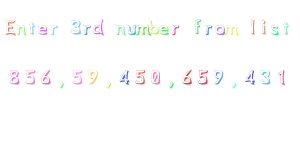,: (165, 77, 179, 93), (228, 79, 242, 93), (102, 80, 117, 92), (55, 79, 68, 92)
0: (149, 65, 164, 88)
1: (275, 67, 290, 87)
3: (67, 15, 81, 39), (259, 67, 271, 90)
4: (242, 69, 259, 89), (118, 67, 132, 89)
5: (195, 66, 211, 90), (70, 65, 85, 89), (24, 68, 39, 88), (133, 67, 148, 87)
6: (178, 66, 196, 87), (40, 66, 54, 89)
8: (7, 66, 23, 90)
9: (87, 67, 101, 89), (212, 68, 226, 88)
E: (2, 14, 16, 41)
b: (149, 16, 159, 38)
d: (93, 15, 107, 40)
e: (158, 20, 170, 38), (38, 22, 50, 37)
f: (190, 18, 203, 36)
i: (258, 17, 269, 39)
l: (245, 12, 259, 43)
m: (136, 19, 150, 40), (225, 23, 241, 39)
n: (111, 21, 127, 40), (16, 18, 27, 39)
o: (214, 23, 224, 36)
r: (48, 22, 62, 37), (203, 21, 214, 40), (170, 22, 183, 38), (81, 23, 93, 38)
s: (269, 22, 281, 39)
t: (27, 20, 38, 39), (281, 21, 293, 38)
u: (126, 21, 138, 39)
